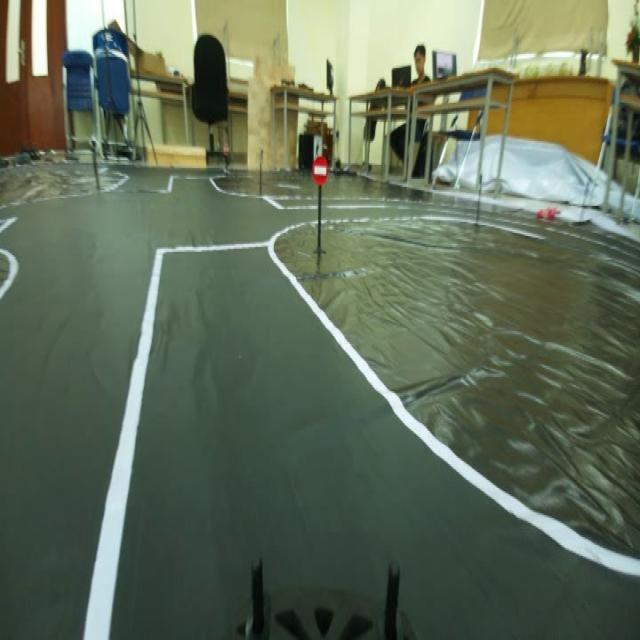no_entry: (307, 148, 333, 196)
